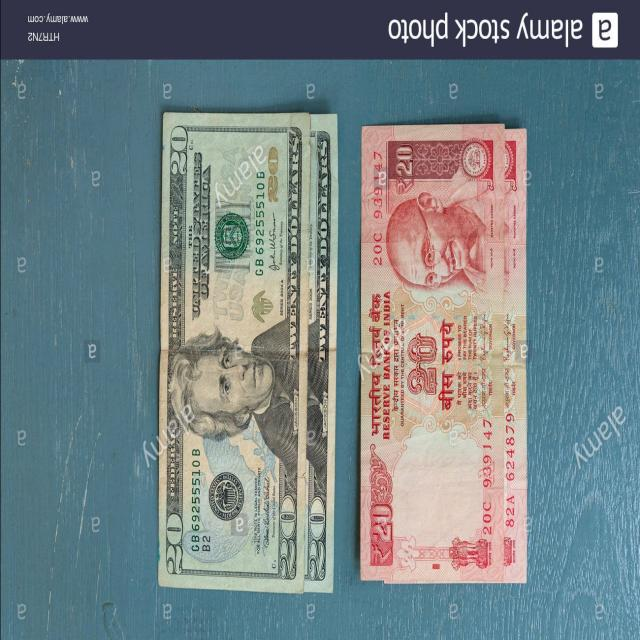20IndianRupees: (360, 129, 504, 580)
